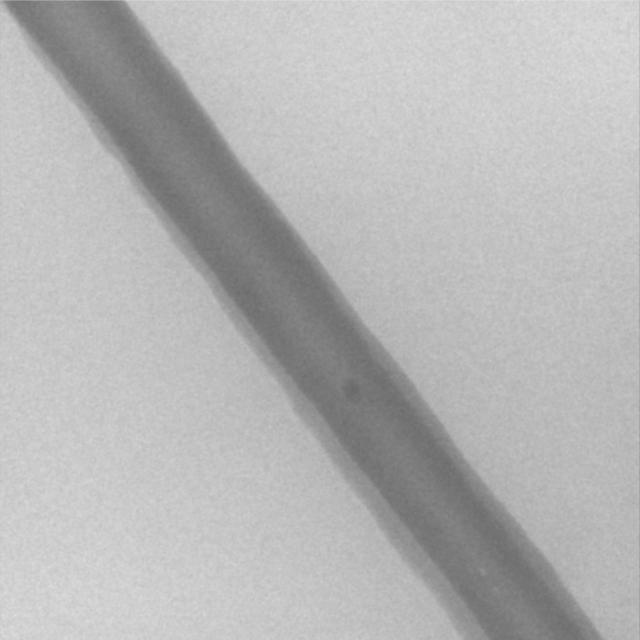air hole: (477, 565, 487, 578)
